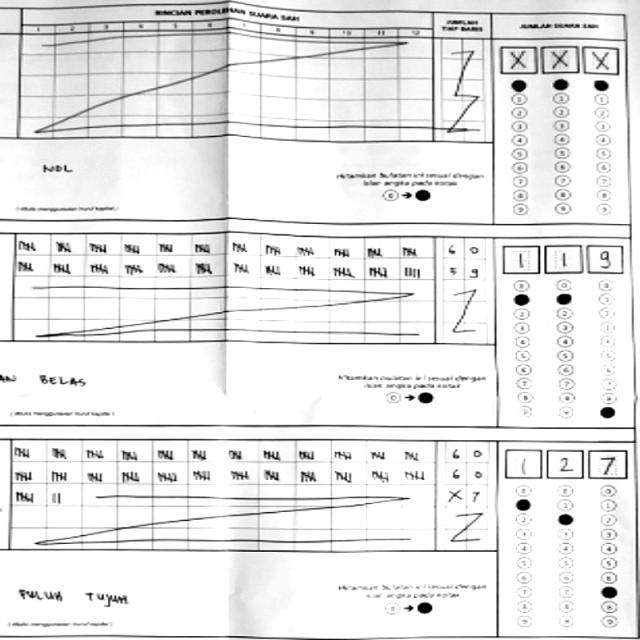Suara: (496, 238, 624, 276), (501, 444, 631, 481), (496, 42, 622, 76)
